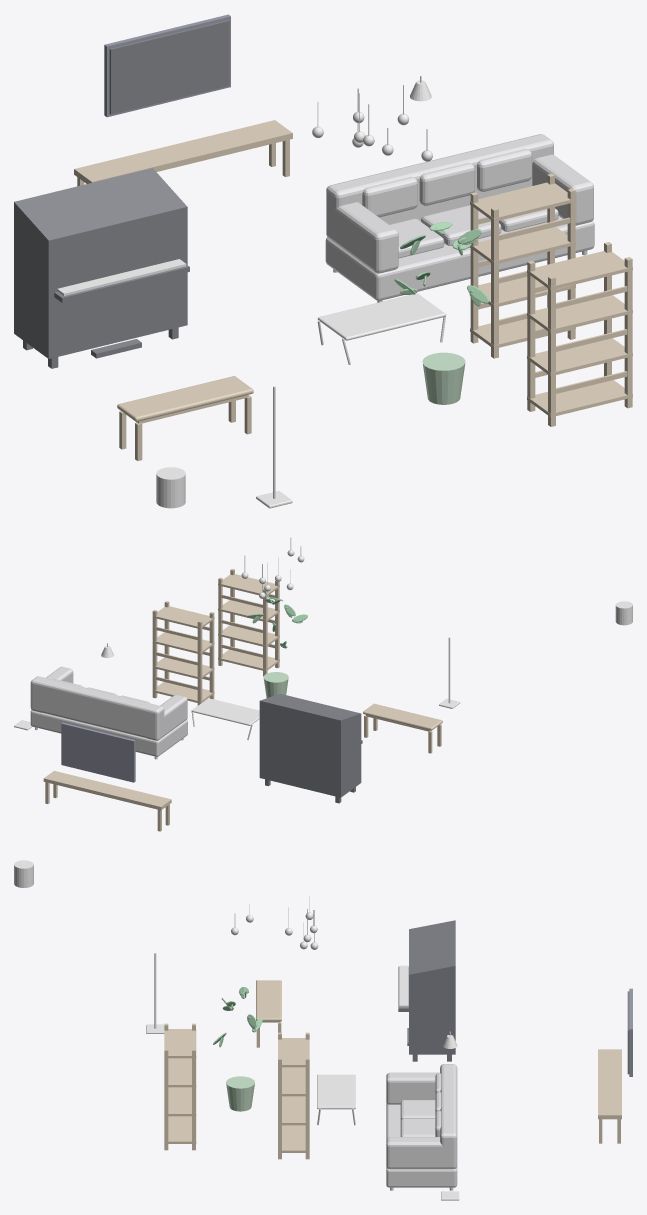
Rendered from agent_scene.glb.
The picture shows the model from 3 angles, top to bottom: view 1: azimuth 30°, elevation 25°; view 2: azimuth 150°, elevation 25°; view 3: azimuth 270°, elevation 25°; orthographic projection. The views are drawn at different scales.
Parts seen in each view (by area): view 1: pi_body, tv_back, pi_pediment, sf_base, sf_back, co_top, sf_arm-1, ct_top, be_top, ShelfL_shelf3, ShelfR_shelf3, sf_arm1 (+23 smaller); view 2: pi_body, sf_back, tv_screen, sf_base, pi_pediment, co_top, ct_top, sf_arm-1, be_top, ShelfR_shelf3, ShelfL_shelf3, ShelfR_shelf1 (+10 smaller); view 3: pi_body, pi_pediment, sf_arm1, sf_base, co_top, sf_back, sf_arm-1, ct_top, be_top, ShelfL_shelf3, ShelfR_shelf3, pl_pot (+9 smaller).
Boxes of the visible parts, x1,y1,x2,y2 form: pi_body: [14, 207, 187, 358]; tv_back: [109, 20, 229, 114]; pi_pediment: [14, 168, 187, 240]; sf_base: [325, 216, 594, 300]; sf_back: [326, 134, 553, 237]; co_top: [74, 120, 292, 183]; sf_arm-1: [326, 202, 398, 273]; ct_top: [317, 293, 445, 340]; be_top: [117, 376, 253, 421]; ShelfL_shelf3: [527, 251, 632, 290]; ShelfR_shelf3: [470, 182, 575, 221]; sf_arm1: [532, 154, 593, 225]; pi_body: [259, 708, 361, 797]; sf_back: [30, 676, 164, 738]; tv_screen: [61, 722, 135, 782]; sf_base: [30, 710, 187, 756]; pi_pediment: [259, 693, 360, 728]; co_top: [43, 770, 171, 810]; ct_top: [191, 698, 259, 725]; sf_arm-1: [146, 694, 187, 740]; be_top: [363, 703, 442, 730]; ShelfR_shelf3: [152, 606, 214, 629]; ShelfL_shelf3: [218, 574, 279, 596]; ShelfR_shelf1: [152, 657, 214, 679]; pi_body: [409, 975, 455, 1054]; pi_pediment: [409, 920, 455, 974]; sf_arm1: [386, 1137, 457, 1169]; sf_base: [386, 1103, 457, 1187]; co_top: [598, 1049, 621, 1119]; sf_back: [440, 1064, 457, 1166]; sf_arm-1: [386, 1072, 439, 1104]; ct_top: [317, 1074, 355, 1109]; be_top: [256, 980, 281, 1021]; ShelfL_shelf3: [164, 1029, 196, 1058]; ShelfR_shelf3: [278, 1038, 309, 1067]; pl_pot: [226, 1076, 254, 1111].
Size of the model in its own units: 8.02 by 2.9 by 8.72.
